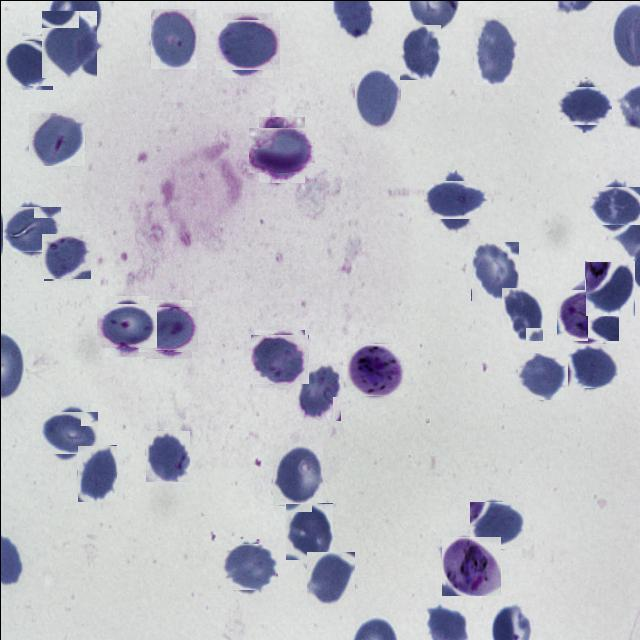difficult: (440, 535, 500, 595), (346, 342, 402, 396)
red blood cell: (37, 12, 100, 74), (218, 16, 276, 74), (28, 110, 84, 166), (253, 121, 309, 177), (272, 443, 322, 505), (472, 15, 516, 84), (354, 66, 400, 130), (252, 332, 306, 386), (470, 240, 518, 300), (5, 202, 58, 255), (150, 8, 196, 68), (100, 299, 152, 352), (584, 260, 634, 315), (284, 502, 332, 559), (142, 302, 194, 354), (223, 540, 274, 592), (430, 173, 480, 226), (295, 362, 340, 420), (470, 499, 521, 550), (306, 551, 354, 605), (44, 407, 94, 458), (4, 37, 54, 87), (517, 351, 566, 400), (398, 23, 440, 79), (144, 429, 189, 481), (568, 341, 616, 389), (76, 444, 116, 501), (500, 286, 542, 340), (42, 232, 90, 279), (592, 181, 639, 228), (562, 82, 608, 128)
trophozoite: (558, 286, 615, 343)
